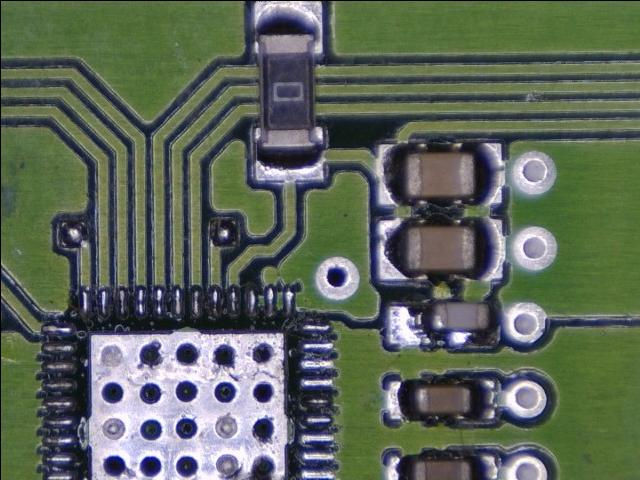Incorrect_installation: (387, 302, 502, 348)
Short_circuit: (387, 302, 502, 348)
